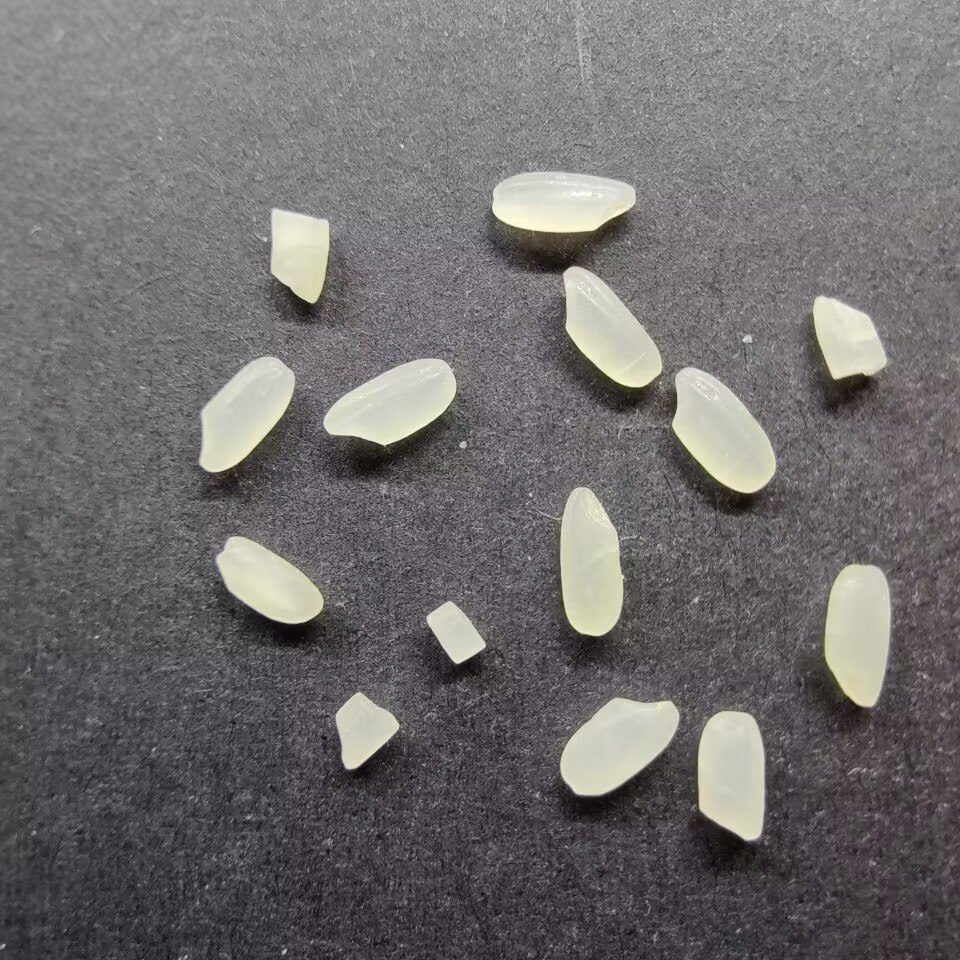broken: (809, 291, 889, 380), (264, 206, 332, 305), (333, 688, 402, 773), (422, 598, 488, 665)
rice: (669, 361, 778, 495), (558, 264, 664, 389), (558, 693, 681, 797), (321, 355, 457, 447), (196, 354, 297, 474), (555, 483, 625, 639), (215, 533, 326, 626), (694, 707, 768, 845), (823, 563, 891, 710), (490, 168, 637, 235)
